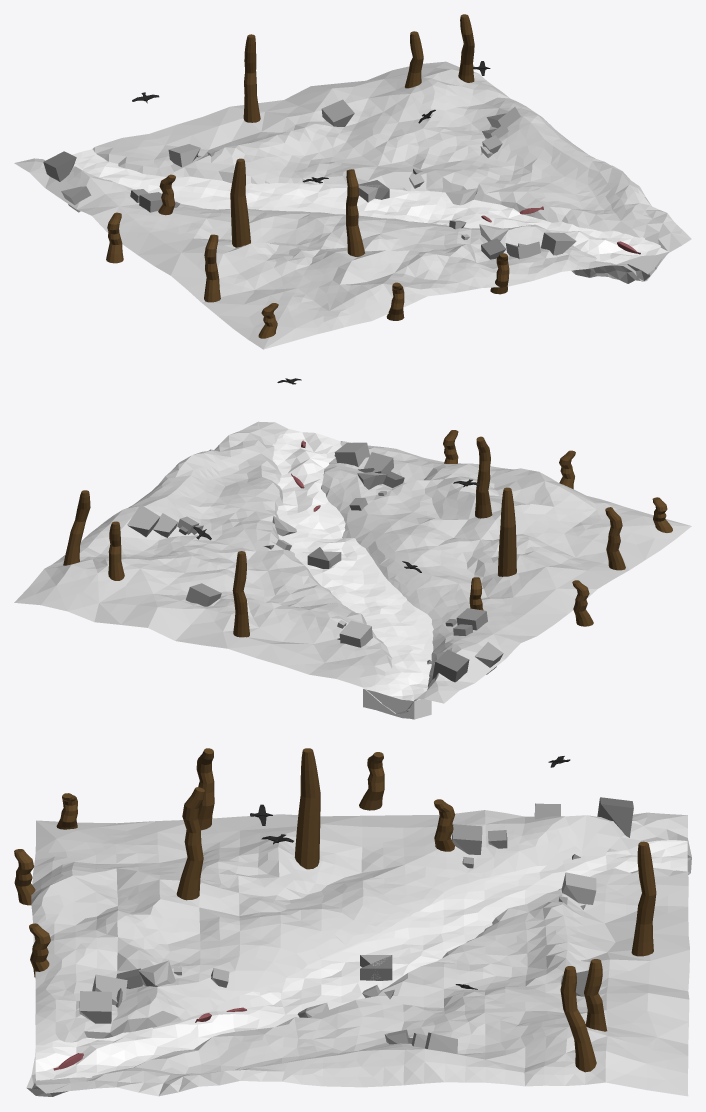
Rendered from oasis1.glb.
The picture shows the model from 3 angles, top to bottom: view 1: azimuth 30°, elevation 25°; view 2: azimuth 150°, elevation 25°; view 3: azimuth 270°, elevation 25°; orthographic projection. The views are drawn at different scales.
Parts seen in each view (by area): view 1: trava, reka, Cylinder.002, Cylinder.001, Cylinder.003, Cylinder.007, Cylinder.005, Cylinder.004, Cylinder.011, rock, rock.001, rock.006 (+3 smaller); view 2: trava, reka, Cylinder.002, Cylinder.001, Cylinder.003, Cylinder.005, Cylinder.007, rock, Cylinder.004, rock.002, rock.006, Cylinder.011 (+2 smaller); view 3: trava, reka, Cylinder.002, Cylinder.003, Cylinder.001, Cylinder.005, rock (×2), Cylinder.004, Cylinder.007, Cylinder.011, rock.006, rock.002 (+7 smaller).
Part boxes in pixels (x1,y1,x2,y2): trava: (14, 61, 691, 349); reka: (72, 149, 668, 281); Cylinder.002: (230, 158, 250, 247); Cylinder.001: (243, 34, 260, 122); Cylinder.003: (346, 169, 365, 256); Cylinder.007: (204, 234, 220, 302); Cylinder.005: (458, 14, 474, 82); Cylinder.004: (405, 31, 423, 88); Cylinder.011: (106, 212, 123, 263); rock: (43, 151, 76, 181); rock.001: (321, 99, 354, 126); rock.006: (541, 232, 576, 255); trava: (14, 421, 691, 714); reka: (272, 429, 433, 719); Cylinder.002: (498, 487, 516, 576); Cylinder.001: (232, 551, 249, 637); Cylinder.003: (475, 436, 492, 518); Cylinder.005: (63, 490, 90, 565); Cylinder.007: (605, 507, 625, 570); rock: (432, 649, 469, 682); Cylinder.004: (108, 521, 124, 580); rock.002: (339, 620, 372, 647); rock.006: (334, 442, 369, 466); Cylinder.011: (572, 580, 593, 626); trava: (26, 810, 691, 1096); reka: (35, 840, 687, 1085); Cylinder.002: (294, 748, 320, 869); Cylinder.003: (176, 787, 204, 900); Cylinder.001: (631, 841, 656, 956); Cylinder.005: (560, 966, 596, 1072); rock (×2): (360, 797, 633, 980); Cylinder.004: (584, 959, 607, 1031); Cylinder.007: (196, 748, 214, 830); Cylinder.011: (359, 752, 384, 810); rock.006: (79, 991, 111, 1023); rock.002: (561, 872, 596, 904).
Size of the model in its own units: 21.61 by 7.59 by 20.78.
